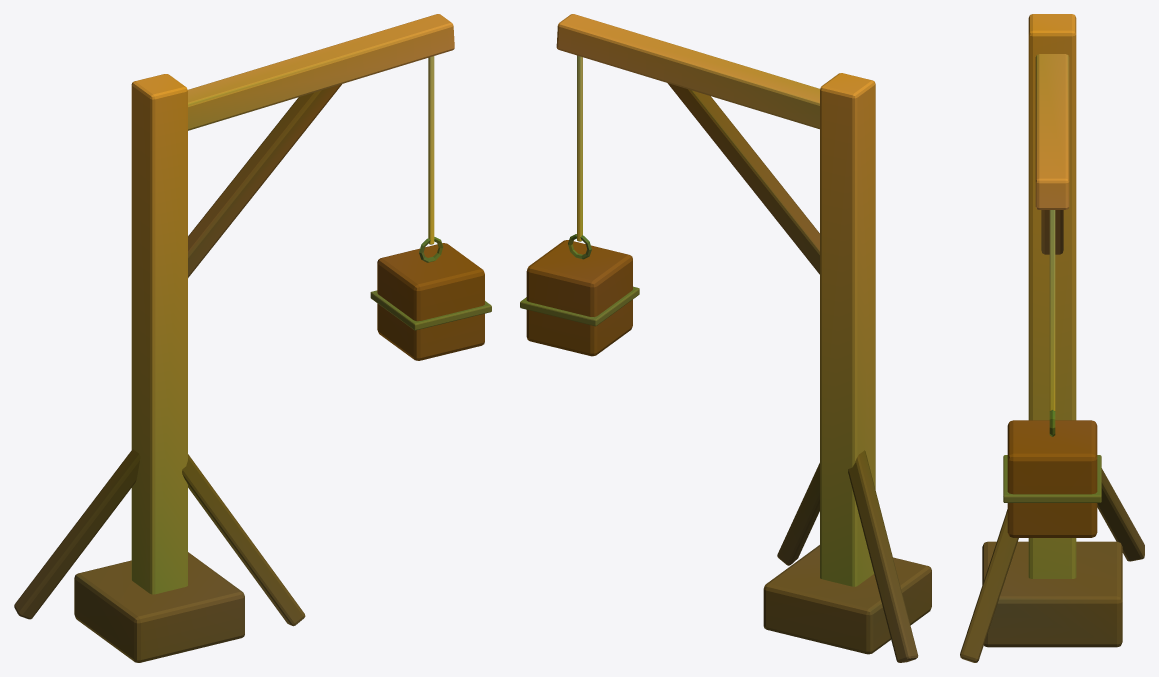
The model's file is Mine_Crane_01.fbx.
3 renders of one model, left to right at view 1: azimuth 30°, elevation 25°; view 2: azimuth 150°, elevation 25°; view 3: azimuth 270°, elevation 25°, orthographic. The views are drawn at different scales.
Parts seen in each view (by area): view 1: Mine_Crane_01; view 2: Mine_Crane_01; view 3: Mine_Crane_01.
Boxes of the visible parts, x1,y1,x2,y2 form: Mine_Crane_01: (14, 14, 491, 662); Mine_Crane_01: (520, 14, 931, 662); Mine_Crane_01: (960, 14, 1144, 662).
Bounding box in the file's own units: 3.76 × 4.7 × 1.32.
